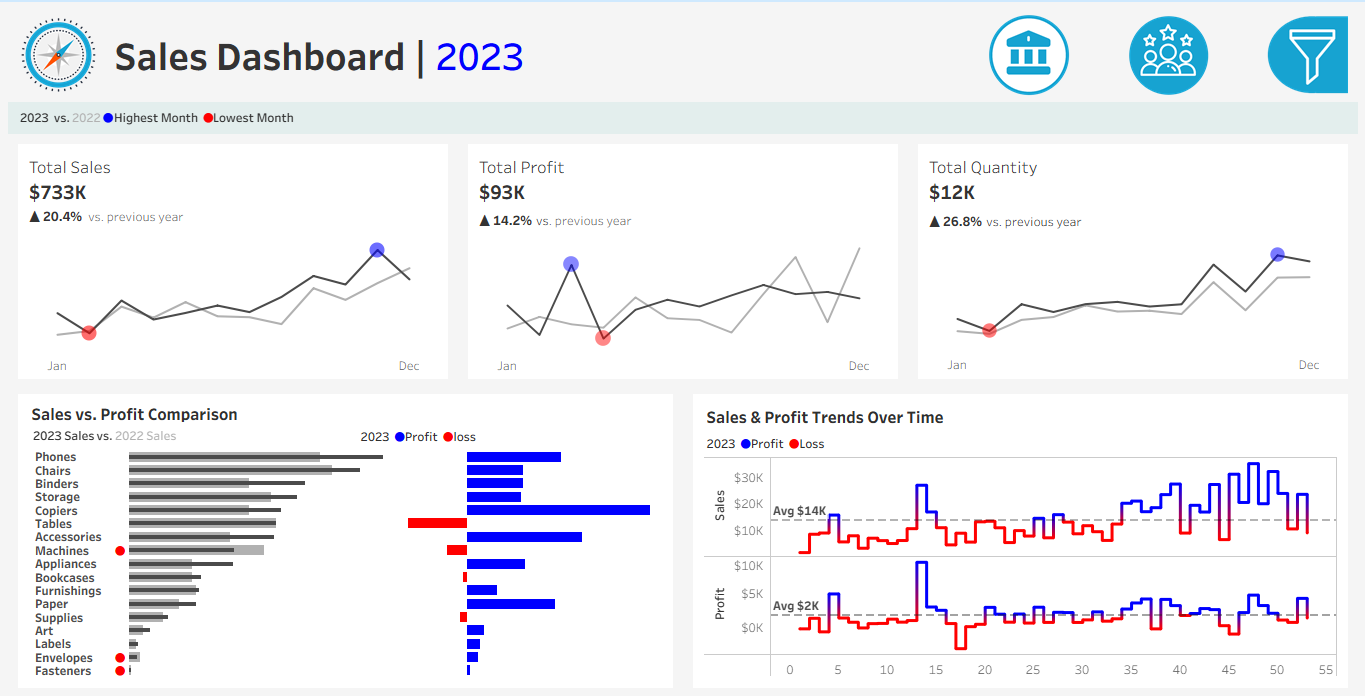

What the dashboard file says about the page in this screenshot:
{"tool":"tableau","page":{"name":"Sales Dashboard","canvas":[1350,685],"ordinal":1},"visuals":[{"type":"image","param":"Image/Icon - Logo.png","box":[0,0,100,94]},{"type":"text","box":[100,0,885,94]},{"type":"dashboard-object","box":[952,2,139,90]},{"type":"dashboard-object","box":[1091,2,138,90]},{"type":"blank","box":[974.6,8,367.4,49]},{"type":"text","box":[974.6,57,367.4,34]},{"type":"parameter","param":"[Parameters].[Parameter 1]","box":[974.6,91,367.4,67]},{"type":"worksheet","title":"Legend KPI","mark":"Automatic","box":[0,94,1350,42]},{"type":"worksheet","title":"KPI Sales","mark":"Line","rows":["Calculation_183521723776655361"],"cols":["Order Date"],"box":[0,136,450,245]},{"type":"worksheet","title":"KPI Profit","mark":"Line","rows":["Calculation_183521724060475405"],"cols":["Order Date"],"box":[450,136,450,245]},{"type":"worksheet","title":"KPI Quantity","mark":"Automatic","rows":["Calculation_865817068066885637"],"cols":["Order Date"],"box":[900,136,450,245]},{"type":"text","box":[974.6,158,367.4,30]},{"type":"filter","title":"KPI Profit","param":"[federated.1tqwn1c18slqfg18nc4yw0inmovr].[none:Category:nk]","box":[974.6,188,367.4,52]},{"type":"filter","title":"KPI Profit","param":"[federated.1tqwn1c18slqfg18nc4yw0inmovr].[none:Sub-Category:nk]","box":[974.6,240,367.4,52]},{"type":"text","box":[974.6,292,367.4,30]},{"type":"filter","title":"KPI Profit","param":"[federated.1tqwn1c18slqfg18nc4yw0inmovr].[none:Region:nk]","box":[974.6,322,367.4,52]},{"type":"filter","title":"KPI Profit","param":"[federated.1tqwn1c18slqfg18nc4yw0inmovr].[none:State:nk]","box":[974.6,374,367.4,52]},{"type":"text","box":[17,393,641,25]},{"type":"text","box":[692,393,641,32]},{"type":"worksheet","title":"Legend Subcategory chart","mark":"Automatic","box":[17,418,329,20]},{"type":"text","box":[346,418,312,20]},{"type":"text","box":[692,425,641,20]},{"type":"filter","title":"KPI Profit","param":"[federated.1tqwn1c18slqfg18nc4yw0inmovr].[none:City:nk]","box":[974.6,426,367.4,52]},{"type":"worksheet","title":"Sales Comparison","mark":"Bar","rows":["Sub-Category","Calculation_865817068102500363"],"cols":["C.Y sales (copy)_1577104333021556737","Calculation_1577104333021044736","Calculation_183521724056727561"],"box":[17,438,641,235]},{"type":"worksheet","title":"Weekly Trends","mark":"Automatic","rows":["Calculation_1577104333021044736","Calculation_183521724056727561"],"cols":["Order Date"],"box":[692,445,641,228]}]}

Visuals, with their boxes in screenshot pixels (x1, y1, x2, y2), scaled from the page's 1350x685 canvas onto the 1365x696 screenshot:
image: <box>0,0,101,96</box>
text: <box>101,0,996,96</box>
dashboard-object: <box>963,2,1103,93</box>
dashboard-object: <box>1103,2,1243,93</box>
blank: <box>985,8,1357,58</box>
text: <box>985,58,1357,92</box>
parameter: <box>985,92,1357,161</box>
"Legend KPI" worksheet: <box>0,96,1364,138</box>
"KPI Sales" worksheet (Line marks): <box>0,138,455,387</box>
"KPI Profit" worksheet (Line marks): <box>455,138,910,387</box>
"KPI Quantity" worksheet: <box>910,138,1364,387</box>
text: <box>985,161,1357,191</box>
"KPI Profit" filter: <box>985,191,1357,244</box>
"KPI Profit" filter: <box>985,244,1357,297</box>
text: <box>985,297,1357,327</box>
"KPI Profit" filter: <box>985,327,1357,380</box>
"KPI Profit" filter: <box>985,380,1357,433</box>
text: <box>17,399,665,425</box>
text: <box>700,399,1348,432</box>
"Legend Subcategory chart" worksheet: <box>17,425,350,445</box>
text: <box>350,425,665,445</box>
text: <box>700,432,1348,452</box>
"KPI Profit" filter: <box>985,433,1357,486</box>
"Sales Comparison" worksheet (Bar marks): <box>17,445,665,684</box>
"Weekly Trends" worksheet: <box>700,452,1348,684</box>
